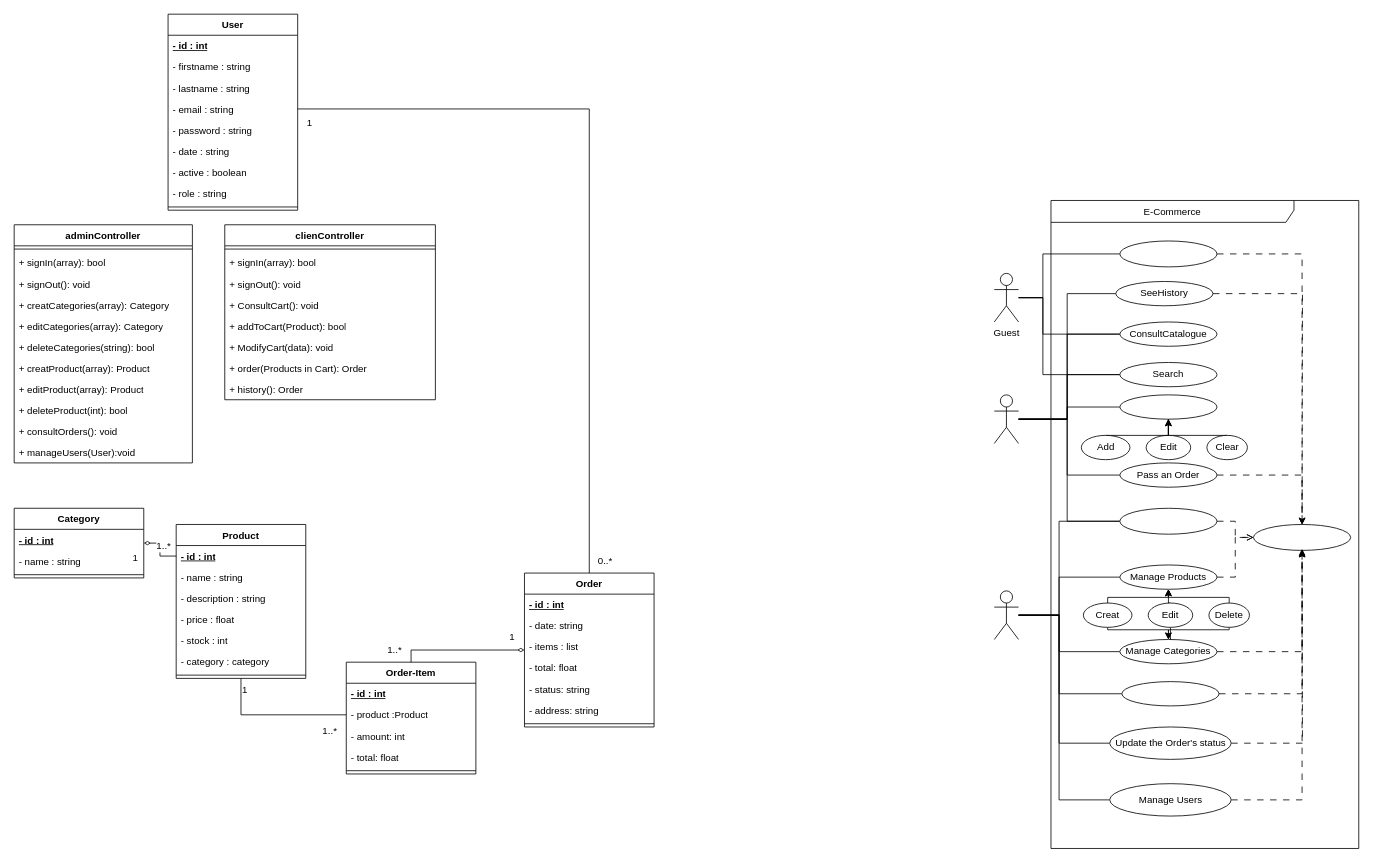
Image size: 1373x863. Some labels were removed from this diagram. The shapes that lost their labels are listed below. From the top down, each one's centre as x and y in pixels, then its label:
At pixel 1168 253: "SignUp".
At pixel 1006 418: "Client".
At pixel 1168 406: "Manage Cart".
At pixel 1168 520: "SignIn".
At pixel 1302 537: "Authentification".
At pixel 1006 614: "Admin".
At pixel 1170 693: "Consult the Orders".
